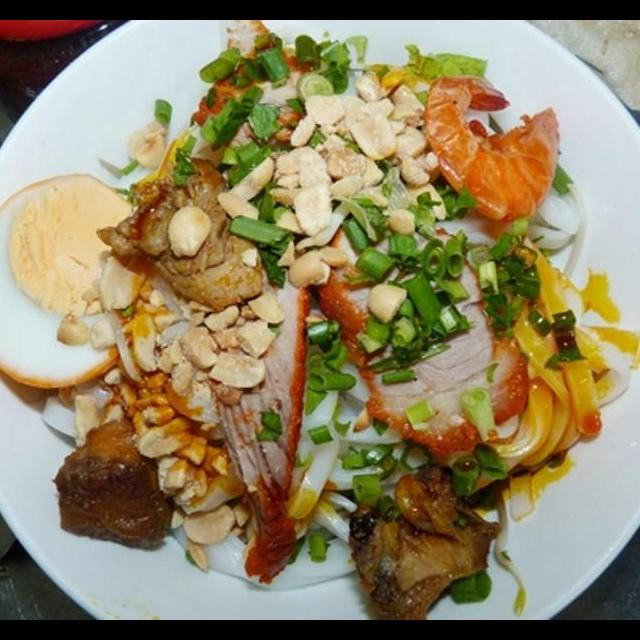mi: (482, 229, 640, 524), (280, 300, 430, 549), (34, 283, 198, 448), (398, 186, 586, 268)
thit heo: (310, 204, 532, 468), (193, 248, 324, 586), (85, 150, 266, 314), (342, 457, 507, 620), (44, 412, 180, 550), (188, 39, 330, 158)
tom: (418, 70, 566, 232)
trung: (0, 167, 145, 399)
